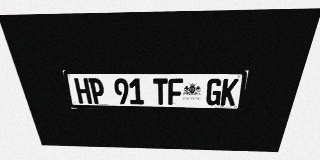1: (128, 78, 144, 104)
9: (113, 78, 130, 104)
F: (168, 78, 183, 105)
G: (205, 79, 223, 105)
H: (74, 78, 92, 104)
K: (220, 79, 239, 106)
P: (88, 78, 106, 104)
T: (153, 78, 168, 105)
